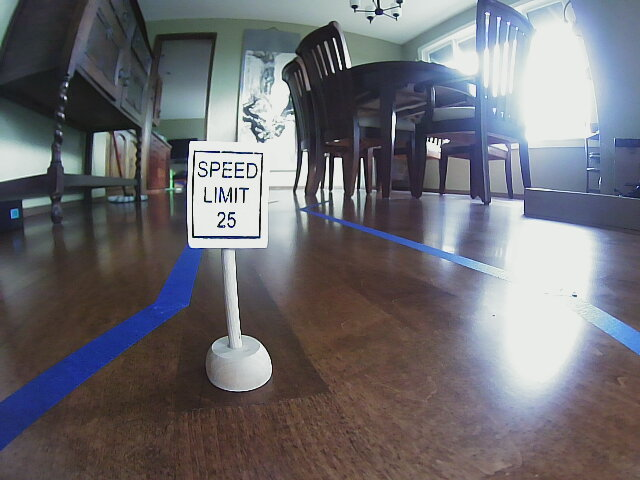SpeedLimit25: (188, 138, 269, 245)
